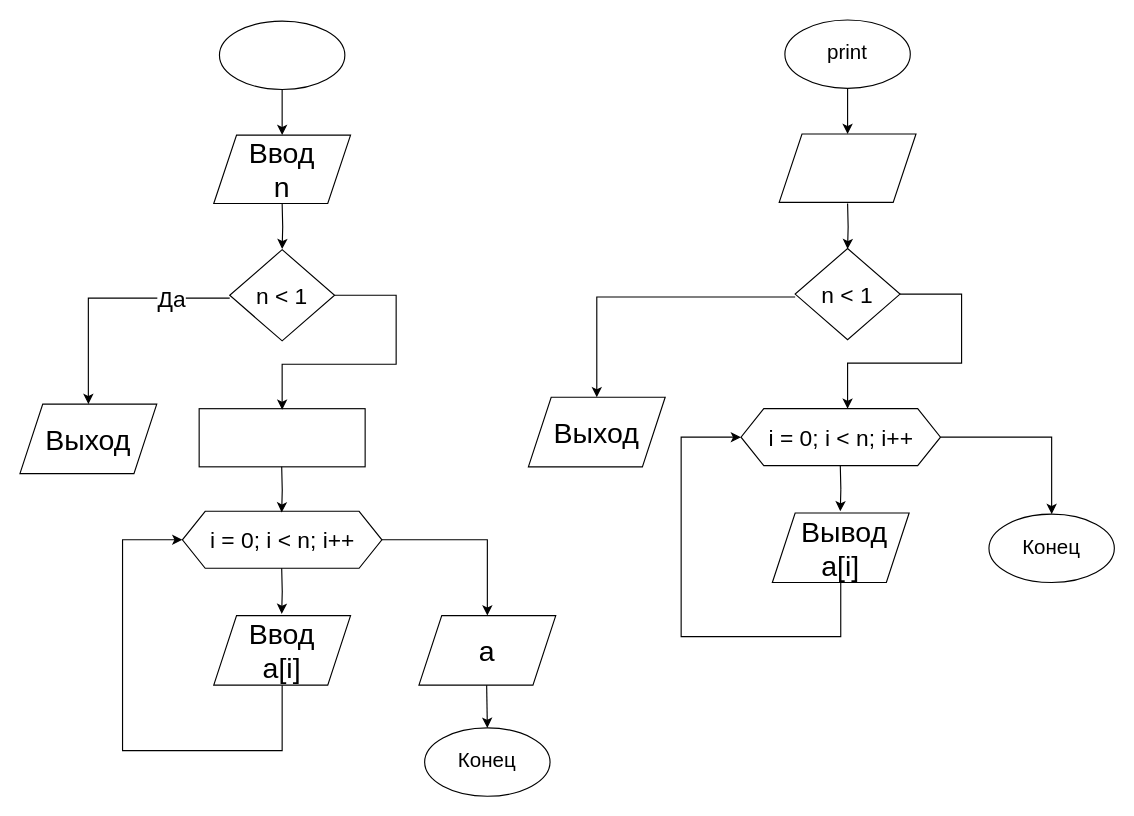
The diagram is 1134 pixels wide and 816 high, and some of its shapes have lost their labels. Each missing label, with the centre of its shape:
a = malloc(n): (281,437)
init: (281,54)
Ввод a, n: (847,167)
